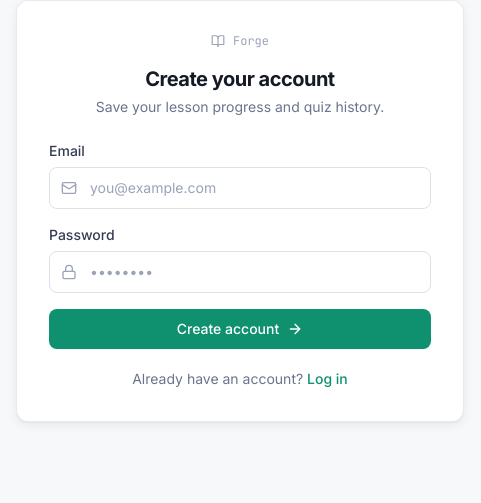
AuthPage › shows duplicate email error message when register fails (409 conflict)
This screenshot has width=481, height=503.
Step 1. Type "dup@example.com" into the field labelled "Email" → coordinates (240, 188), box [49,167,431,209]
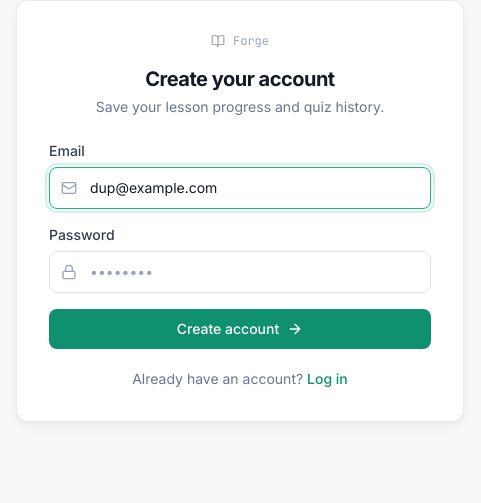
Step 2. Type "password123" into the password field labelled "Password" → coordinates (240, 272), box [49,251,431,293]
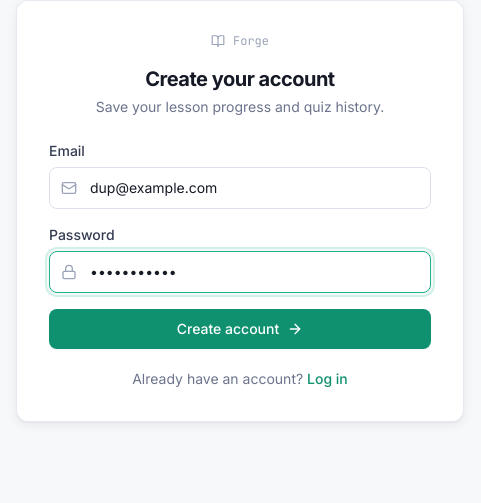
Step 3. Click the button "Create account" → coordinates (240, 329), box [49,309,431,349]
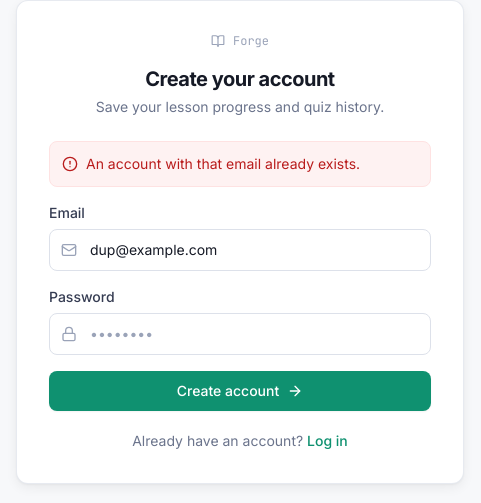
expect the text "An account with that email already exists." is shown: met, box [86,154,360,174]
